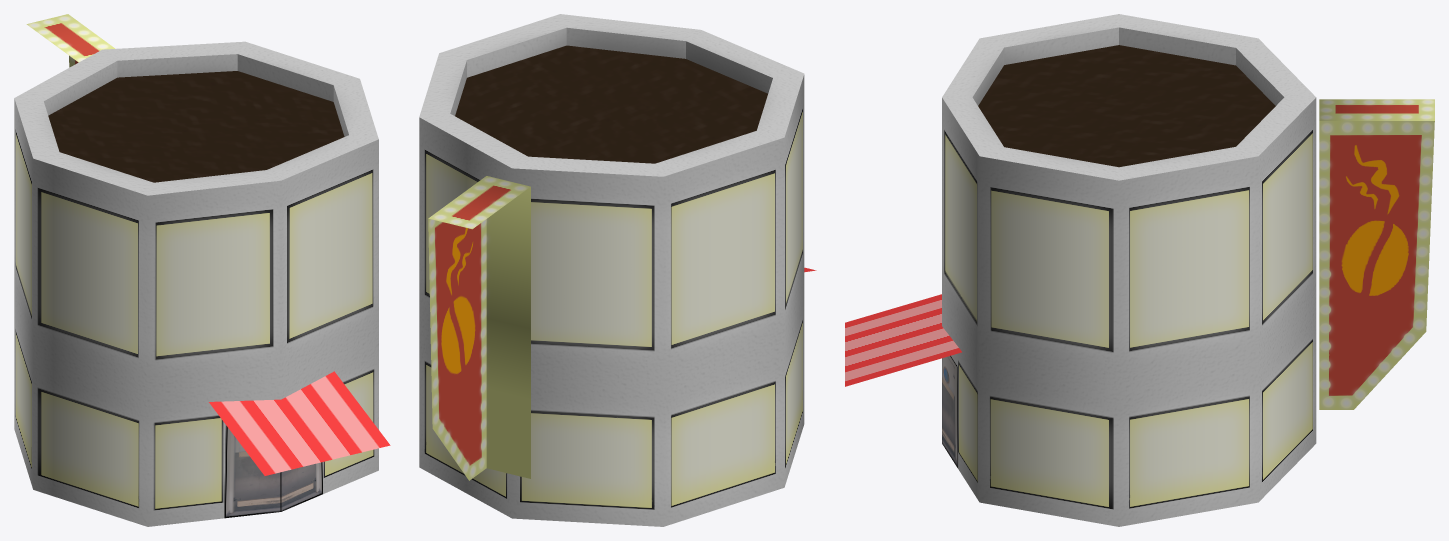
The model's file is CoffeeMug.FBX.
The picture shows the model from 3 angles, left to right: view 1: azimuth 30°, elevation 25°; view 2: azimuth 150°, elevation 25°; view 3: azimuth 270°, elevation 25°; orthographic projection. The views are drawn at different scales.
Parts seen in each view (by area): view 1: Cylinder001; view 2: Cylinder001; view 3: Cylinder001.
Part boxes in pixels (left/top/right/bottom): Cylinder001: left=14, top=14, right=390, bottom=526; Cylinder001: left=419, top=14, right=816, bottom=526; Cylinder001: left=845, top=14, right=1434, bottom=526.
Size of the model in its own units: 77.92 by 75.47 by 116.
Materials: 1 (1 with a texture image).
